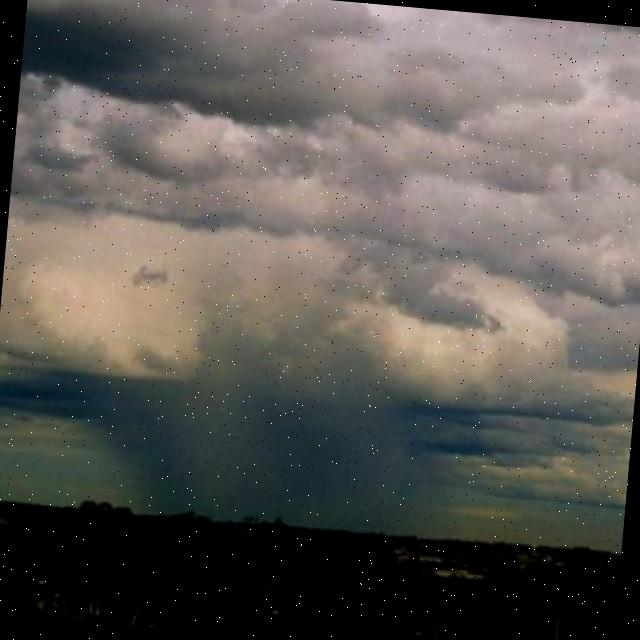Cs: (1, 1, 640, 508)
